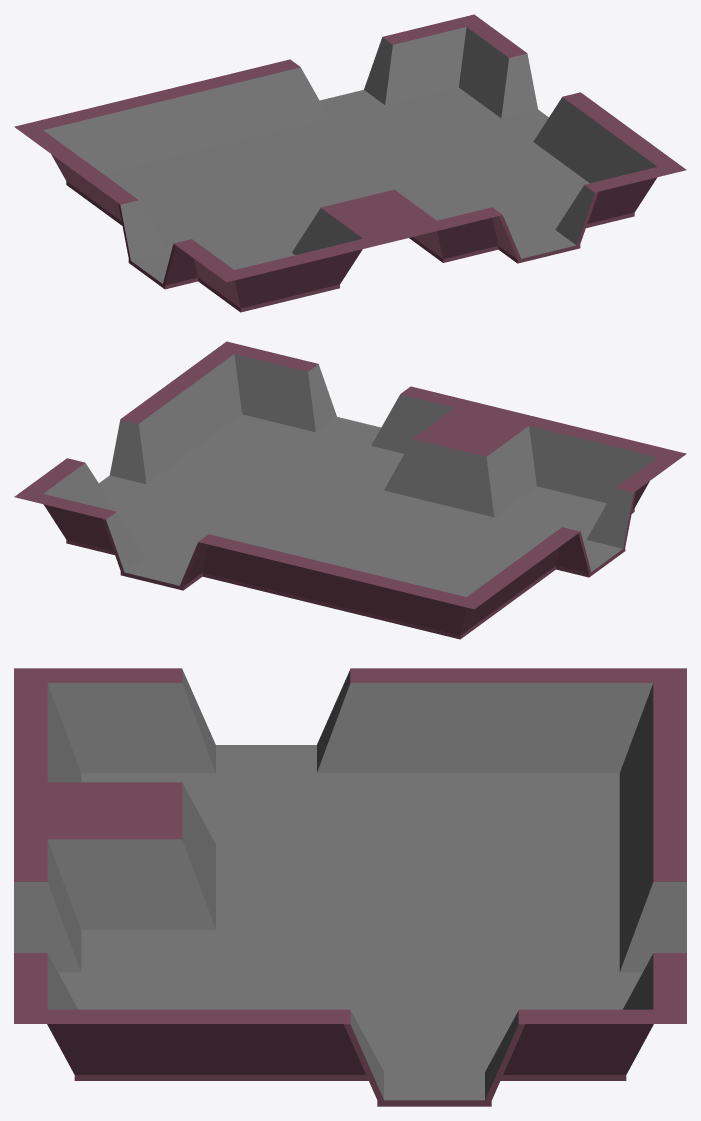
The model's file is room_4d_01.fbx.
3 views of the same model, one above another, from view 1: azimuth 30°, elevation 25°; view 2: azimuth 150°, elevation 25°; view 3: azimuth 270°, elevation 25° (orthographic). The views are drawn at different scales.
Parts seen in each view (by area): view 1: room_4d_01; view 2: room_4d_01; view 3: room_4d_01.
Part boxes in pixels (x1=…): room_4d_01: x1=14, y1=14, x2=686, y2=312; room_4d_01: x1=14, y1=341, x2=686, y2=639; room_4d_01: x1=14, y1=668, x2=686, y2=1106.
Bounding box in the file's own units: 2500 × 271 × 2000.
